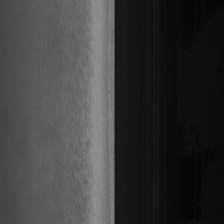silk_spot: (62, 51, 96, 181)
